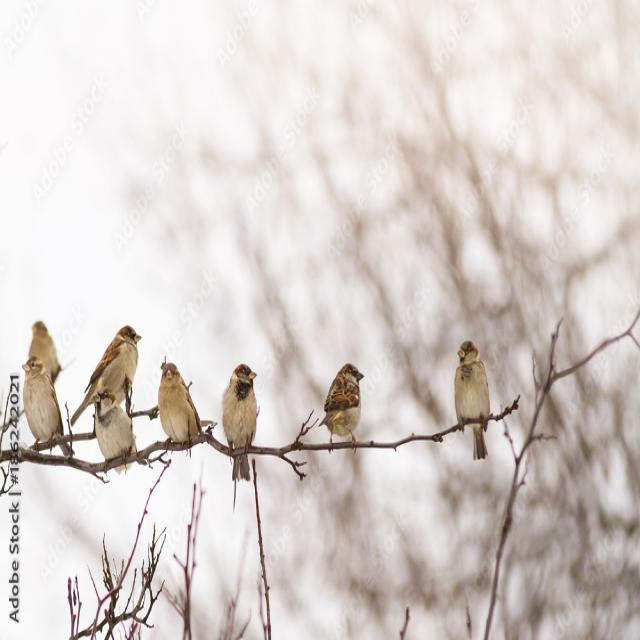bird: (67, 320, 148, 438), (19, 354, 77, 460), (452, 339, 497, 465), (218, 361, 262, 488), (154, 360, 209, 460), (88, 385, 140, 477), (319, 357, 372, 444), (22, 320, 61, 388)
